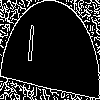I: (25, 25, 36, 72)
